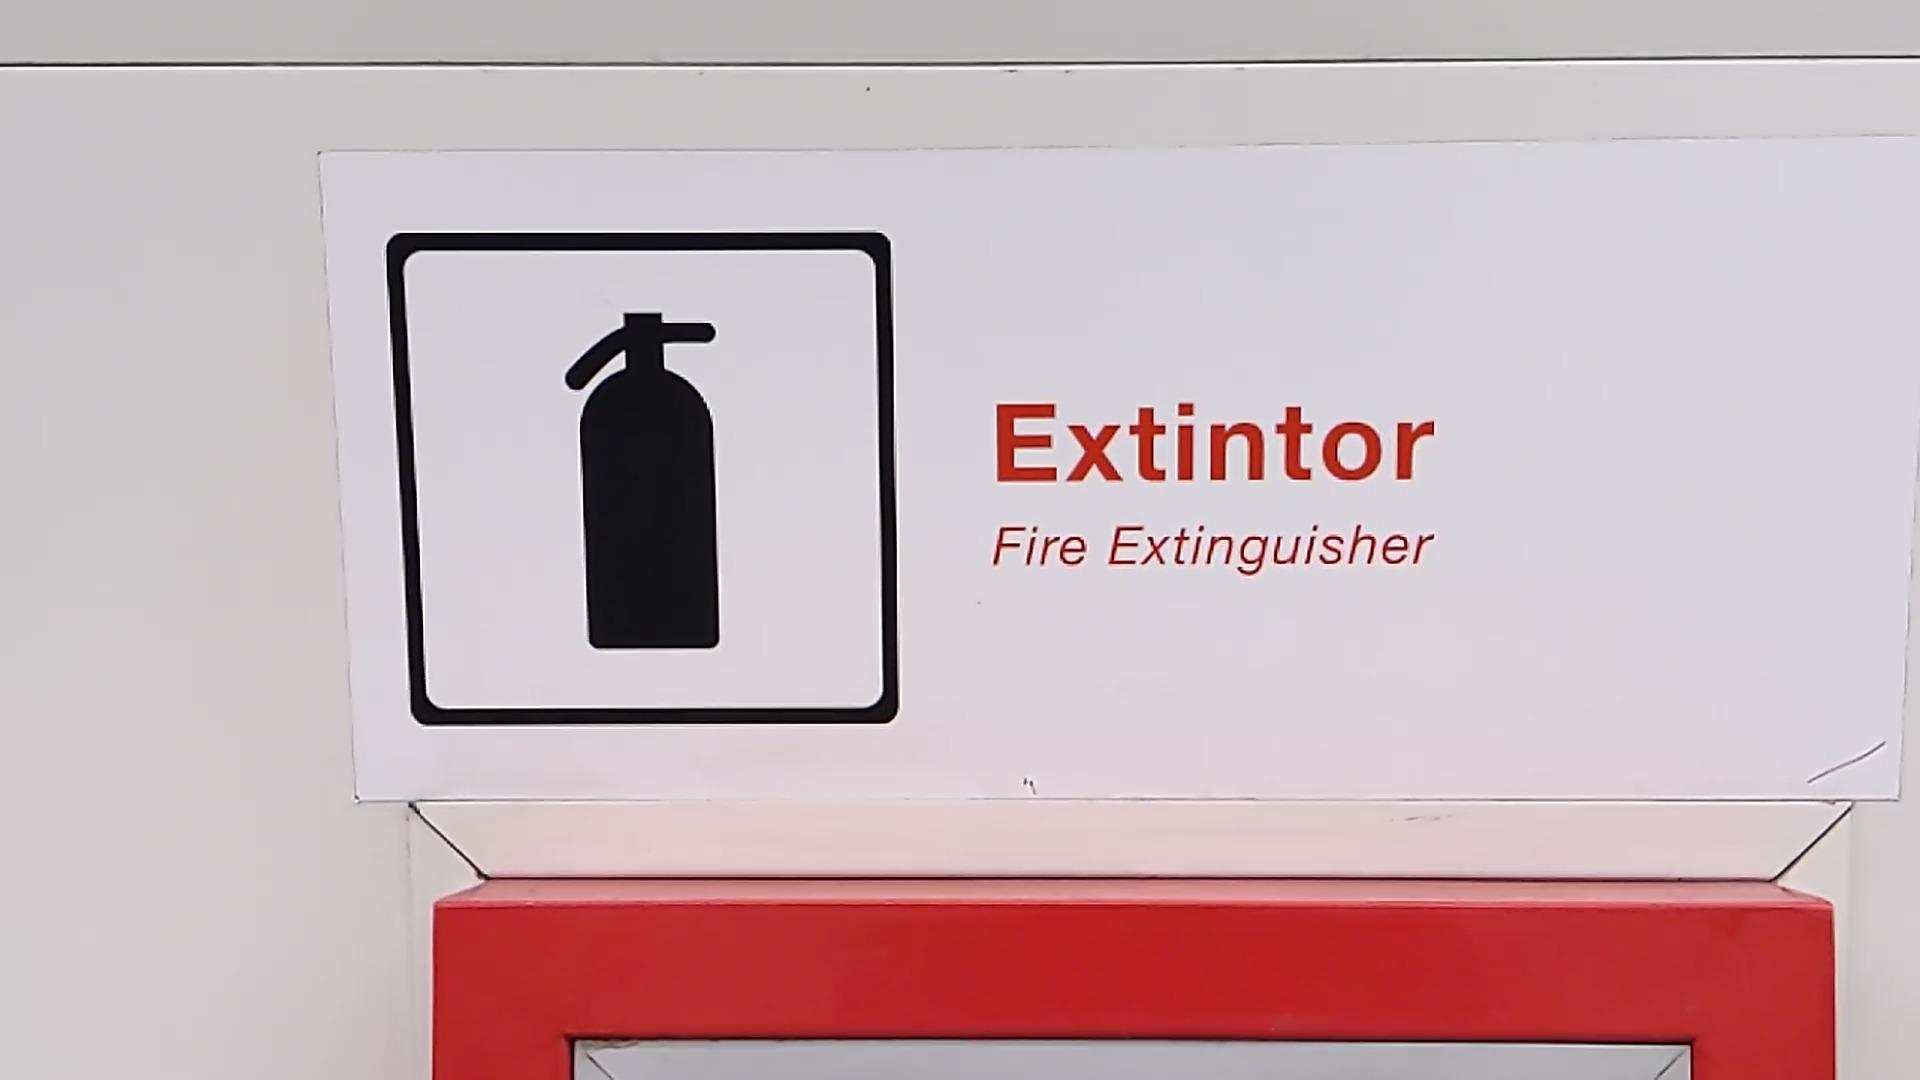extinguisher symbol: (560, 305, 729, 658)
